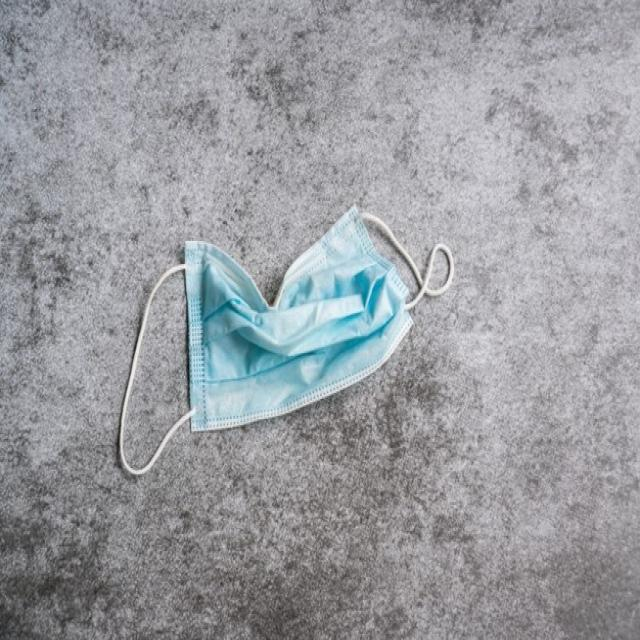non-organic waste: (107, 203, 449, 482)
